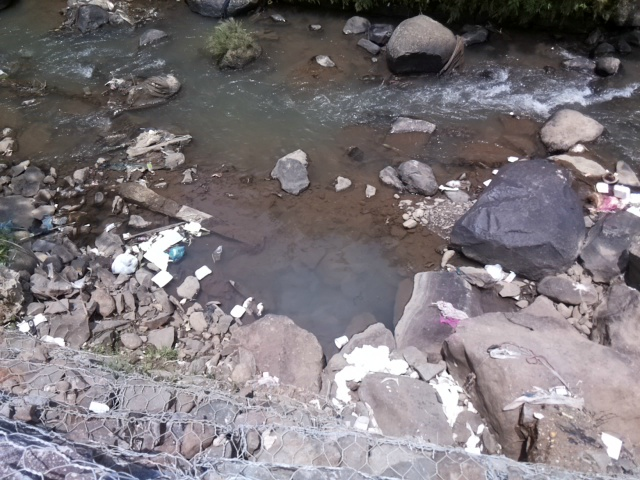Sampah_Plastik: (324, 344, 413, 403), (496, 381, 582, 414), (429, 372, 473, 423), (434, 299, 472, 329), (111, 250, 140, 276), (595, 192, 620, 213), (167, 244, 187, 264), (485, 262, 505, 280), (596, 181, 611, 195)
Sampah_Styrofoam: (141, 223, 185, 269), (614, 182, 640, 215), (149, 269, 175, 288), (229, 302, 247, 320), (195, 264, 211, 283)
